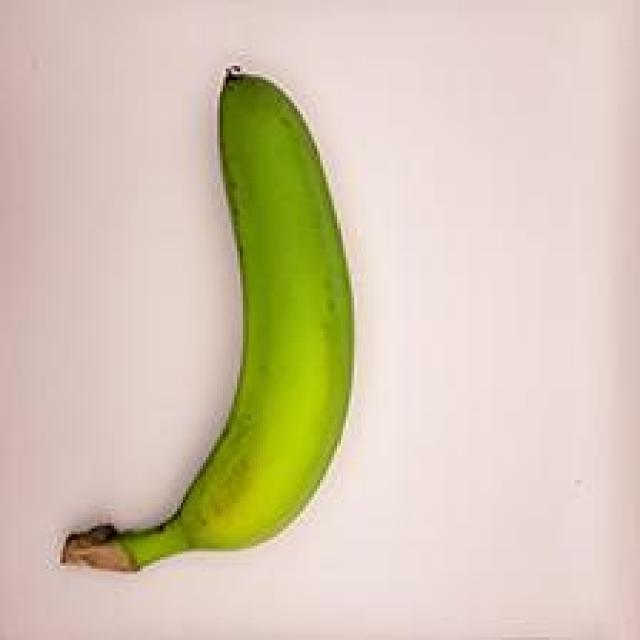Unripe: (39, 48, 372, 589)
